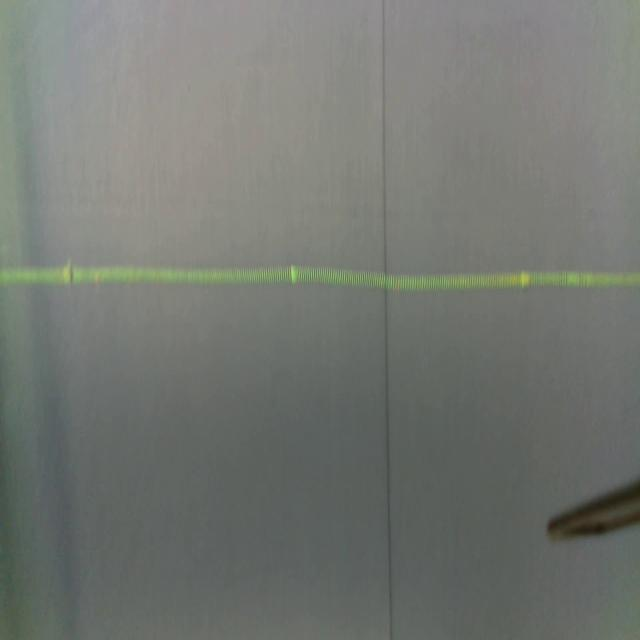crease: (378, 0, 396, 640)
